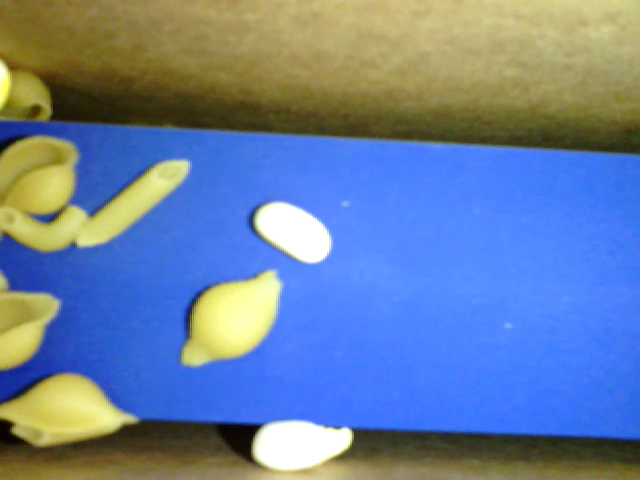elbow: (4, 199, 90, 257)
penne: (75, 154, 191, 252), (13, 417, 122, 445)
shell: (178, 267, 285, 368), (1, 377, 142, 434), (2, 287, 62, 375), (1, 70, 59, 119)
